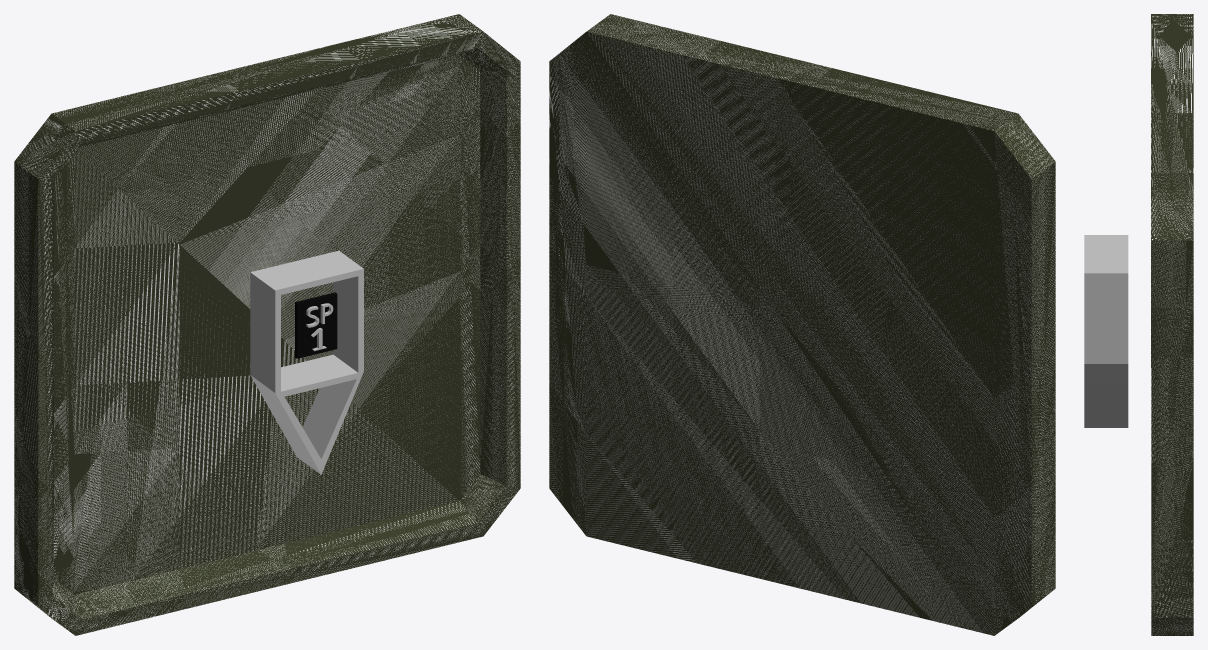
Rendered from CM_-_Start_Point.obj.
3 views of the same model, side by side, from view 1: azimuth 30°, elevation 25°; view 2: azimuth 150°, elevation 25°; view 3: azimuth 270°, elevation 25° (orthographic). The views are drawn at different scales.
Visible parts, largest first — view 1: Button.001_ID13, Button_ID3, SM_CM_-_Start_Point_path1763-2.098; view 2: Button_ID3; view 3: Button_ID3, SM_CM_-_Start_Point_path1763-2.098.
Part boxes in pixels (x1,y1,x2,y2): Button.001_ID13: (52,47,506,619); Button_ID3: (14,14,520,635); SM_CM_-_Start_Point_path1763-2.098: (250,250,363,474); Button_ID3: (549,14,1055,635); Button_ID3: (1151,14,1193,635); SM_CM_-_Start_Point_path1763-2.098: (1084,235,1128,427).
Size of the model in its own units: 1 by 1 by 0.2225.
